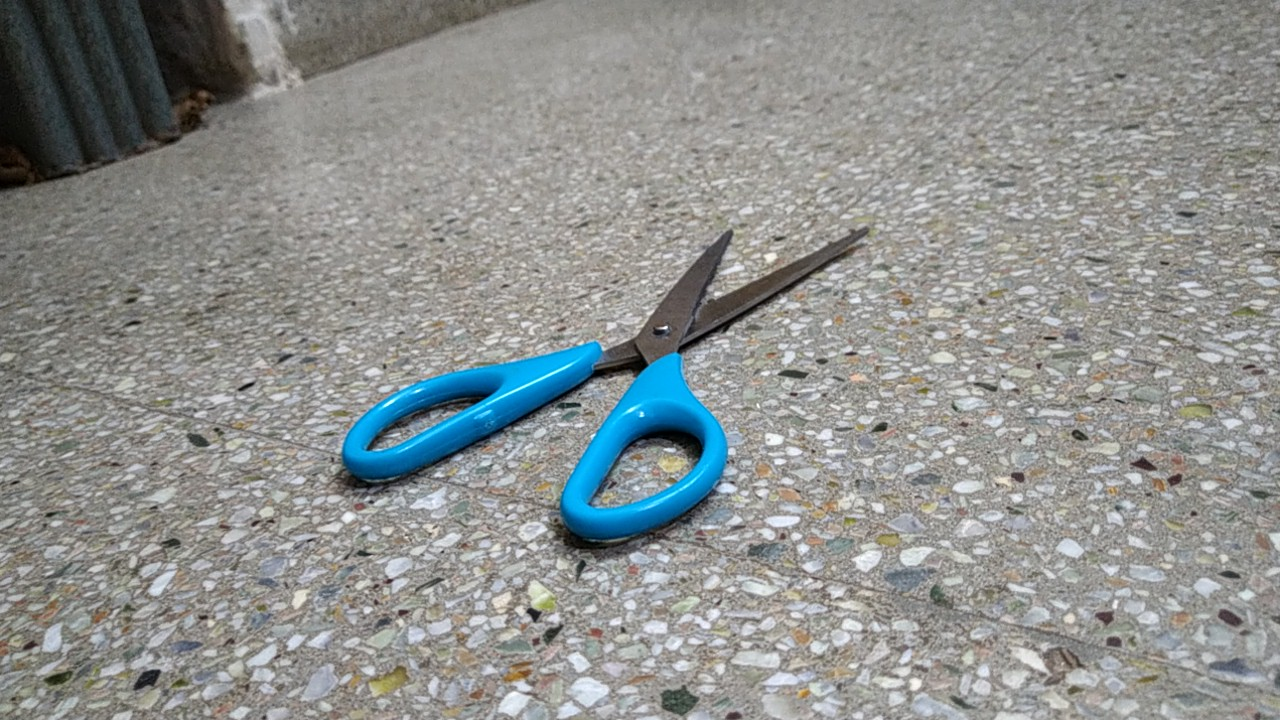scissor: (321, 214, 875, 561)
